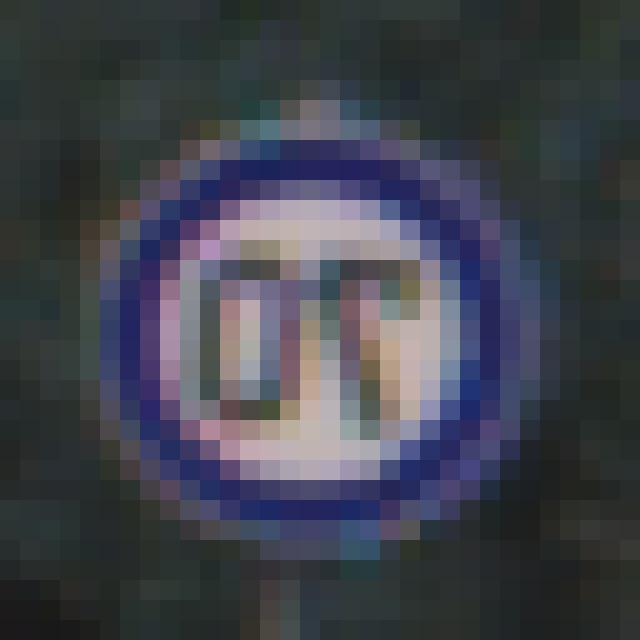SPEED LIMIT 70: (74, 133, 552, 555)
